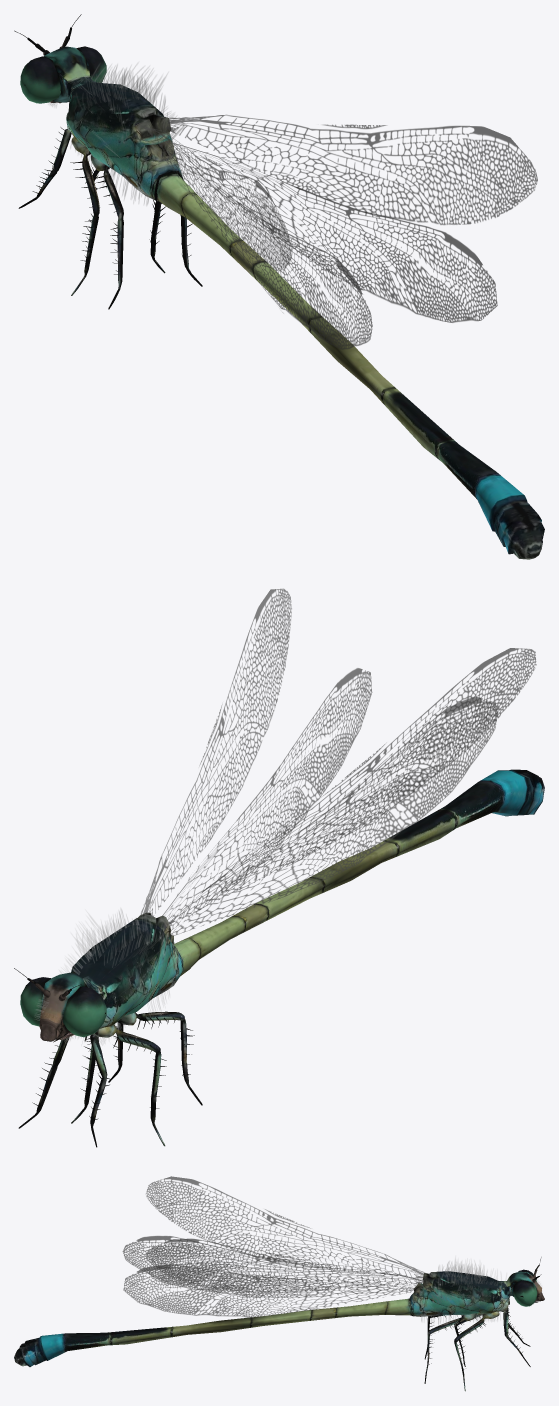
The model's file is realdragonfly.glb.
3 views of the same model, one above another, from view 1: azimuth 30°, elevation 25°; view 2: azimuth 150°, elevation 25°; view 3: azimuth 270°, elevation 25° (orthographic). The views are drawn at different scales.
Parts seen in each view (by area): view 1: Plane.001_3, Cube_1, Plane.003_5, Plane.004_6, Sphere_2; view 2: Plane.001_3, Cube_1, Plane.003_5, Sphere_2, Plane.004_6; view 3: Plane.001_3, Cube_1, Plane.003_5, Plane.004_6, Sphere_2.
Part boxes in pixels (box(x1,y1,x2,y2)): Plane.001_3: box(141, 114, 537, 349); Cube_1: box(44, 46, 544, 559); Plane.003_5: box(18, 113, 202, 309); Plane.004_6: box(49, 62, 186, 205); Sphere_2: box(20, 46, 106, 103); Plane.001_3: box(140, 588, 536, 935); Cube_1: box(39, 769, 544, 1041); Plane.003_5: box(18, 1011, 202, 1147); Sphere_2: box(20, 977, 106, 1037); Plane.004_6: box(35, 908, 183, 1045); Plane.001_3: box(122, 1176, 425, 1317); Cube_1: box(14, 1271, 544, 1366); Plane.003_5: box(424, 1301, 537, 1391); Plane.004_6: box(421, 1256, 541, 1325); Sphere_2: box(513, 1269, 537, 1306).
Bounding box in the file's own units: 0.0351 × 0.0427 × 0.12.
3 materials, 3 textured.
